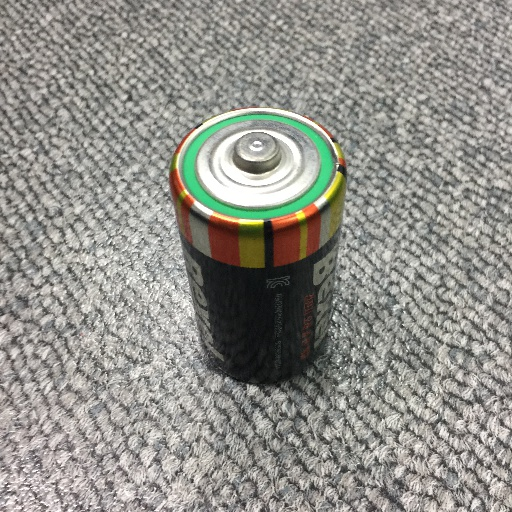Battery_0: (165, 96, 355, 390)
